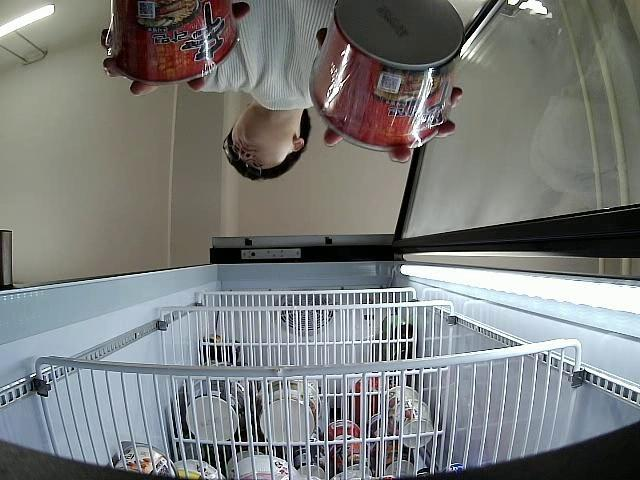01_ShinRamen_L: (311, 3, 463, 148), (110, 1, 238, 78)
